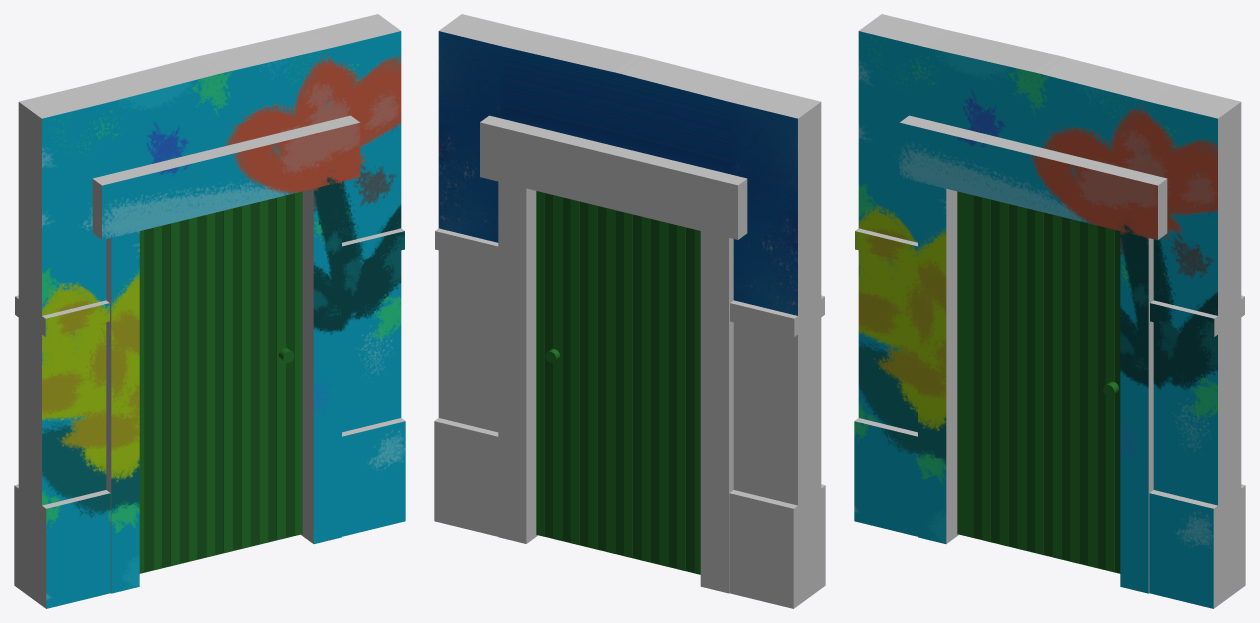
File: FinalDoorB.fbx
The picture shows the model from 3 angles, left to right: view 1: azimuth 30°, elevation 25°; view 2: azimuth 150°, elevation 25°; view 3: azimuth 330°, elevation 25°; orthographic projection.
Visible parts, largest first — view 1: Cube.010, Cube.011, Cube.009; view 2: Cube.010, Cube.011, Cube.009; view 3: Cube.010, Cube.011, Cube.009.
Boxes of the visible parts, x1=… form: Cube.010: x1=14, y1=14, x2=405, y2=608; Cube.011: x1=139, y1=191, x2=302, y2=573; Cube.009: x1=92, y1=115, x2=360, y2=593; Cube.010: x1=434, y1=14, x2=825, y2=608; Cube.011: x1=536, y1=191, x2=700, y2=574; Cube.009: x1=480, y1=115, x2=747, y2=593; Cube.010: x1=854, y1=14, x2=1245, y2=608; Cube.011: x1=957, y1=191, x2=1120, y2=573; Cube.009: x1=899, y1=115, x2=1167, y2=593.
Size of the model in its own units: 1372 by 1782 by 280.
